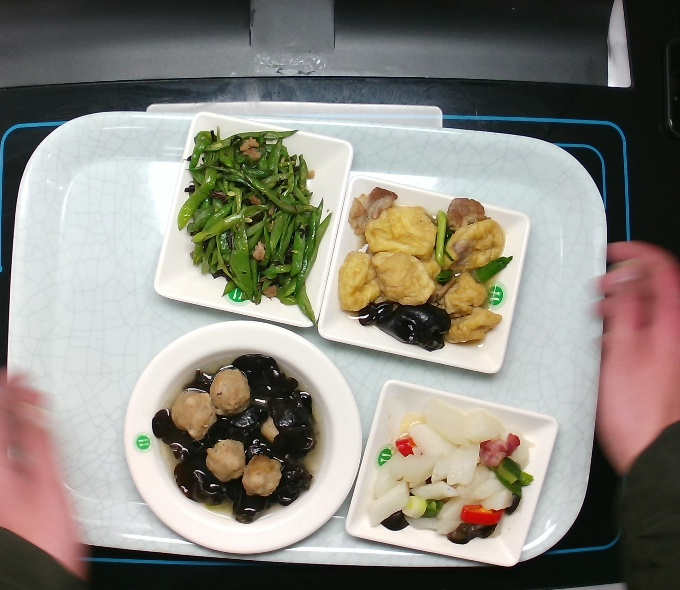wcq-MuErWanZi: (149, 348, 324, 526)
wcq-ShanYao: (362, 399, 538, 547)
wcq-SiJiDouChaoRou: (175, 123, 336, 331)
wcq-YouPaoRouPian: (333, 182, 517, 353)
